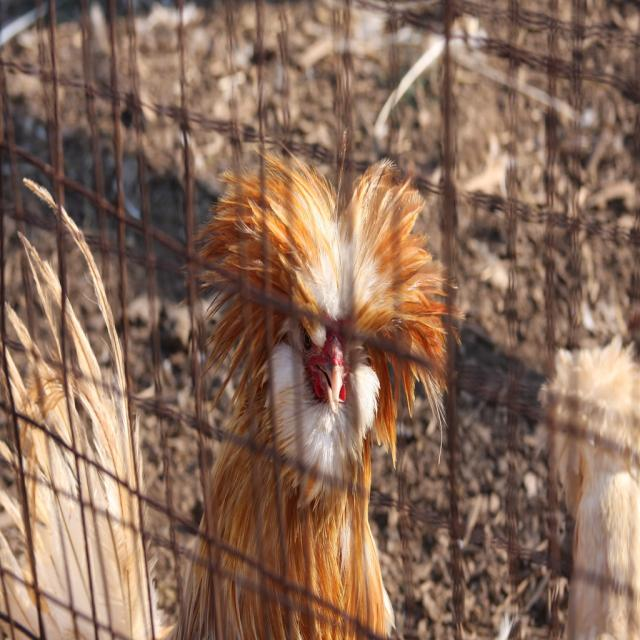Chicken: (171, 123, 459, 624)
